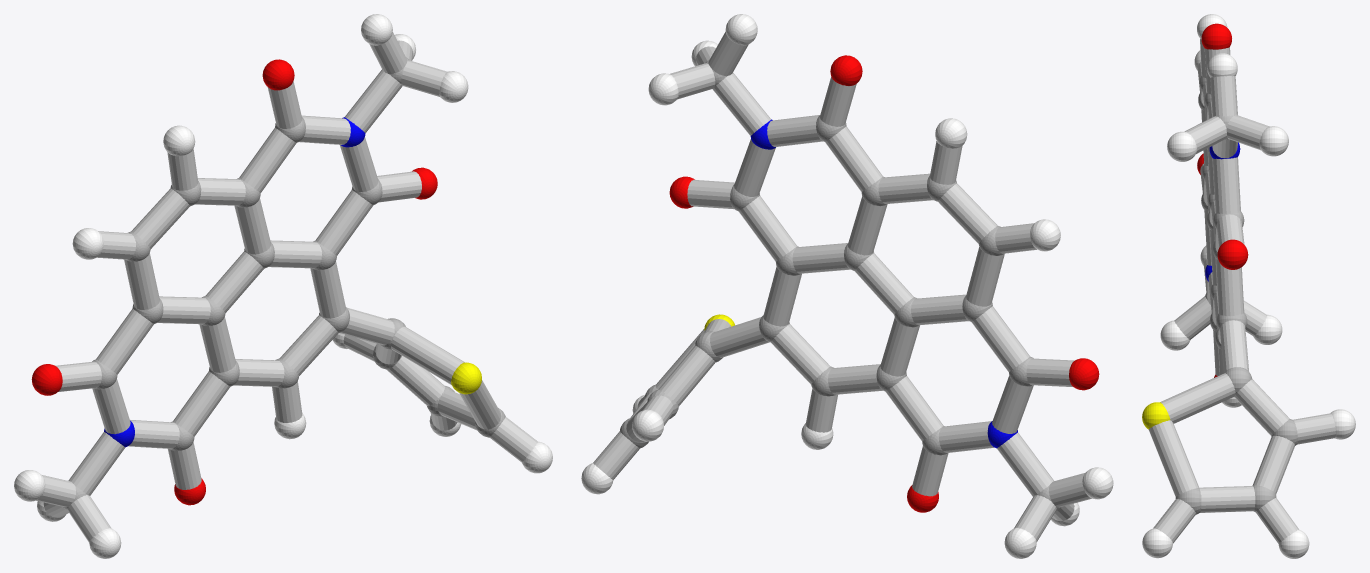
Rendered from Dimethyl_Naphthalene_Dicarboximide_Phi_25_Theta_260_Thiophene.glb.
The picture shows the model from 3 angles, left to right: view 1: azimuth 30°, elevation 25°; view 2: azimuth 150°, elevation 25°; view 3: azimuth 270°, elevation 25°; orthographic projection. The views are drawn at different scales.
Visible parts, largest first — view 1: grp14119, grp7241, grp1, grp12309, grp13757, grp11585; view 2: grp14119, grp7241, grp1, grp12309, grp11585; view 3: grp14119, grp7241, grp1, grp12309, grp13757.
Boxes of the visible parts, x1,y1,x2,y2 form: grp14119: (36, 32, 537, 542); grp7241: (14, 14, 552, 558); grp1: (63, 57, 505, 509); grp12309: (31, 59, 437, 505); grp13757: (451, 362, 481, 394); grp11585: (104, 117, 365, 447); grp14119: (593, 31, 1091, 541); grp7241: (581, 14, 1113, 558); grp1: (620, 59, 1060, 510); grp12309: (669, 55, 1099, 512); grp11585: (750, 119, 1017, 448); grp14119: (1148, 39, 1335, 543); grp7241: (1142, 14, 1355, 558); grp1: (1175, 76, 1297, 514); grp12309: (1197, 23, 1248, 377); grp13757: (1142, 402, 1170, 429).
Size of the model in its own units: 10.91 by 9.79 by 4.18.
